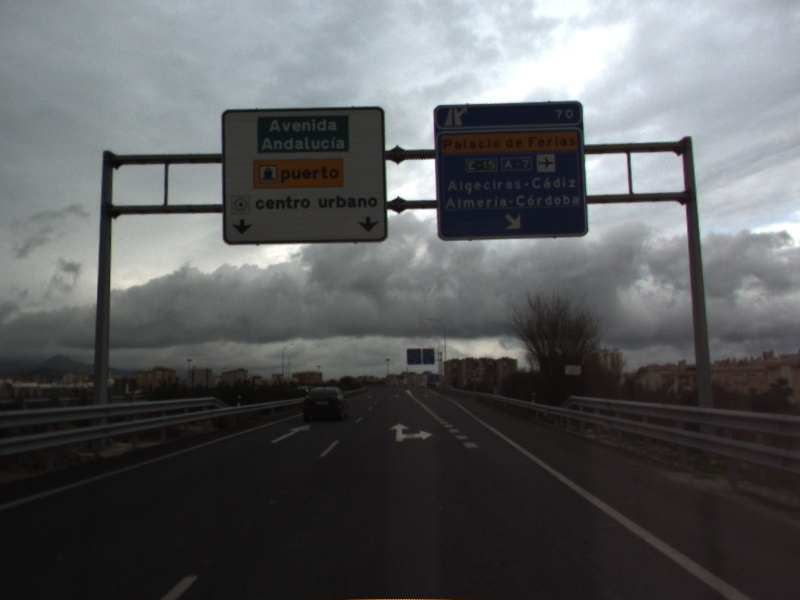STRAIGHT: (268, 422, 313, 445)
STRAIGHT_RIGHT: (387, 421, 435, 443)
